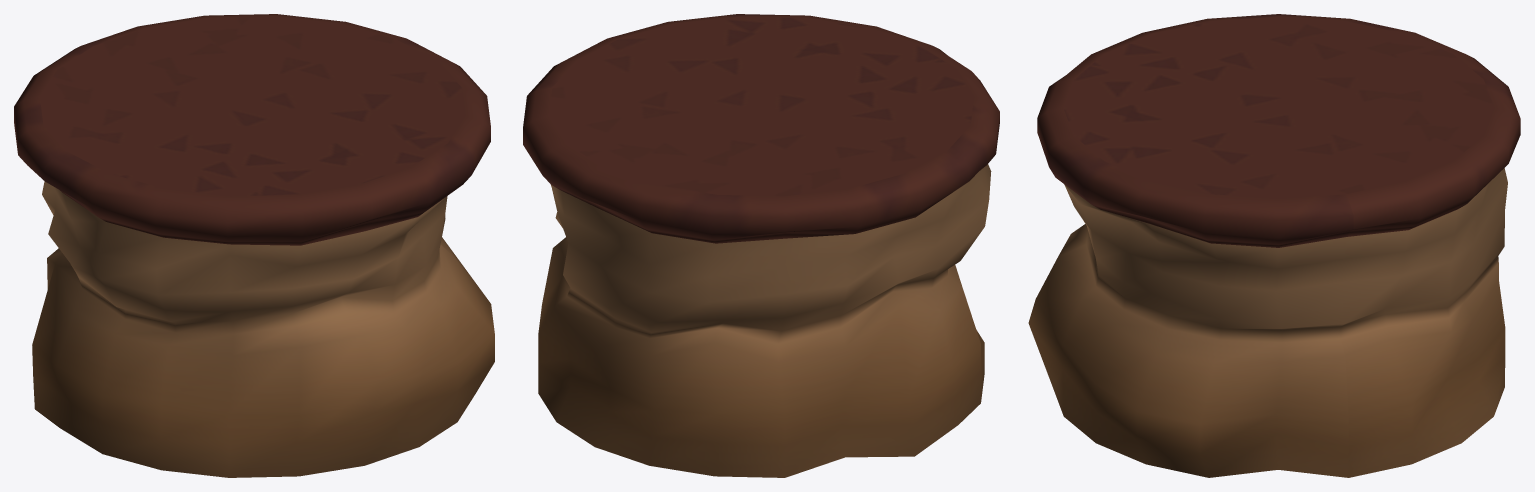
The model's file is environment_cliff_variation_a.fbx.
3 renders of one model, left to right at view 1: azimuth 30°, elevation 25°; view 2: azimuth 150°, elevation 25°; view 3: azimuth 270°, elevation 25°, orthographic.
Parts seen in each view (by area): view 1: Cliff_A; view 2: Cliff_A; view 3: Cliff_A.
Boxes of the visible parts, x1,y1,x2,y2 form: Cliff_A: (14,14,494,477); Cliff_A: (523,14,999,477); Cliff_A: (1028,14,1520,477).
Size of the model in its own units: 602 by 390 by 613.
